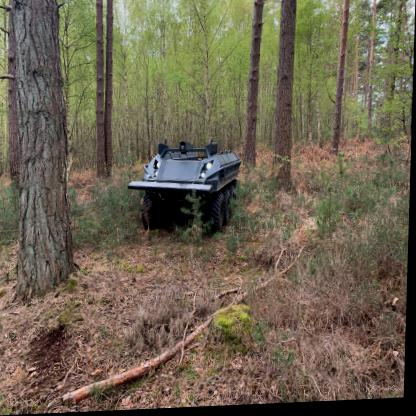UGV: (129, 140, 245, 238)
